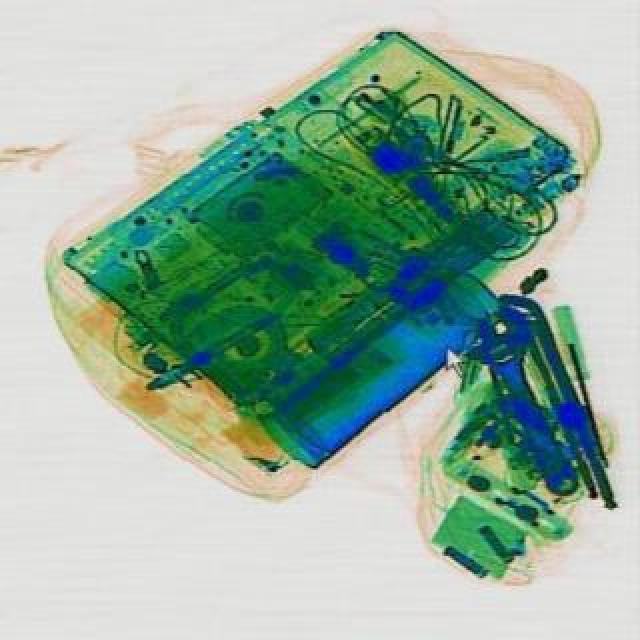scissors: (450, 302, 594, 508)
